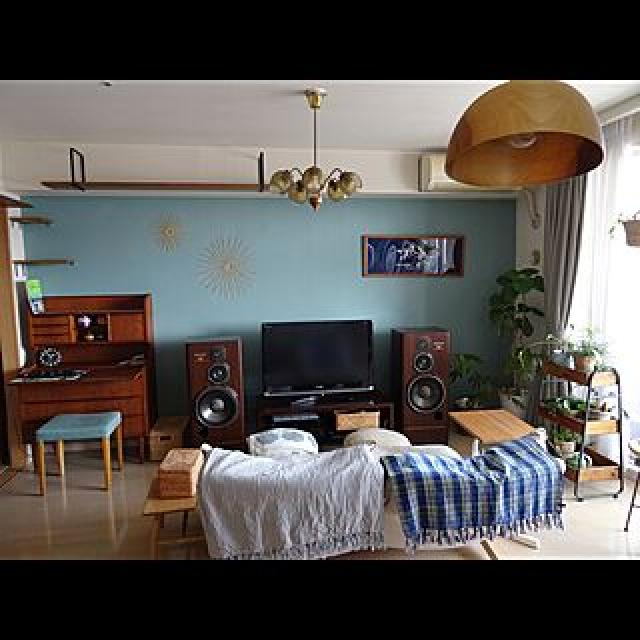vintage chair: (31, 409, 128, 501)
vintage shelf: (0, 286, 163, 471)
